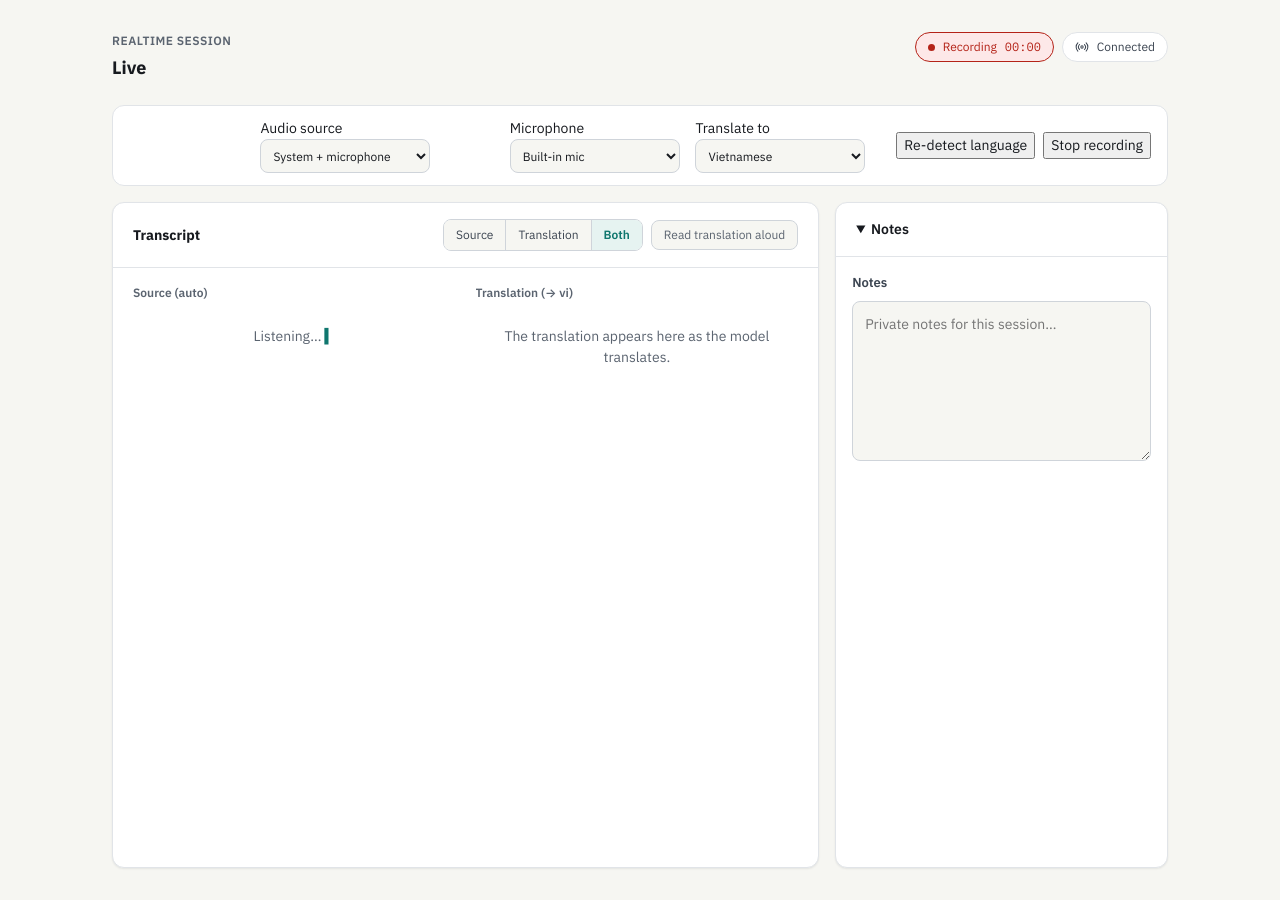
it: Live translation › switches the Target mid-session and follows the value the backend confirms
The image size is (1280, 900).
Expected: the button "Stop recording" is shown, x1=1043 y1=132 x2=1151 y2=159
Select "English" in the dropdown labelled "Translate to" at (780, 156), box x1=695 y1=139 x2=865 y2=173
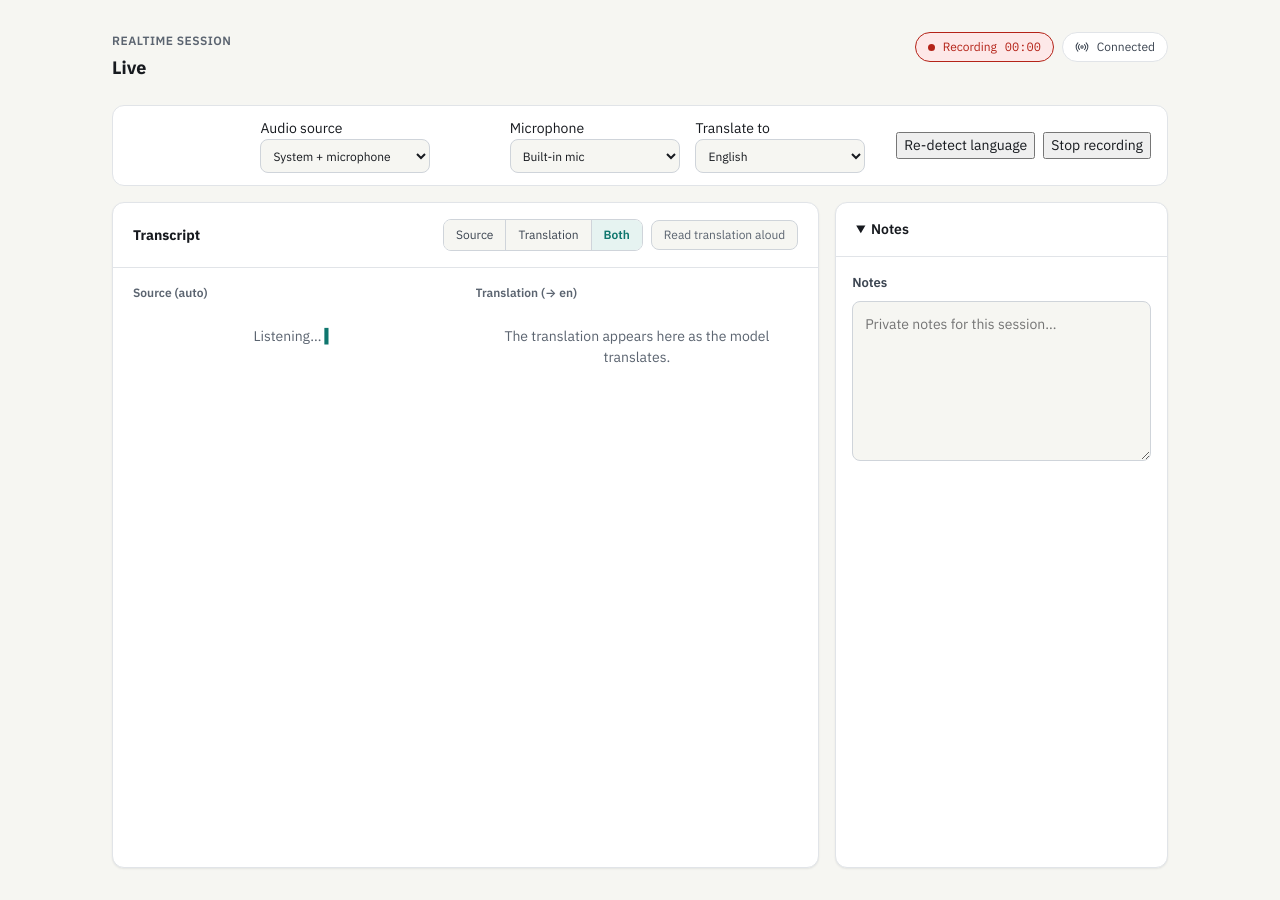
Expected: the heading "Translation (→ en)" is shown, x1=476 y1=285 x2=577 y2=300
